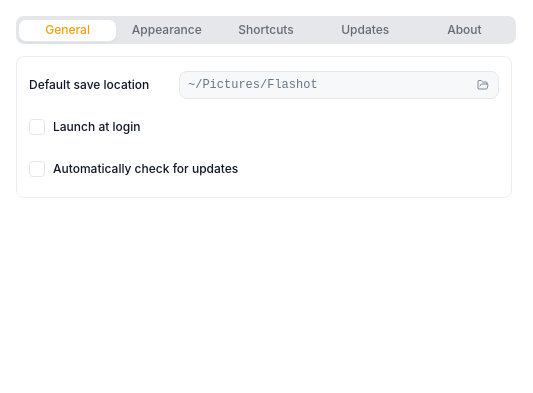
SettingsRoute › resets individual shortcuts from the icon button inside the input
This screenshot has width=533, height=393.
Click the tab "Shortcuts": coordinates (266, 30) x1=216 y1=18 x2=316 y2=42
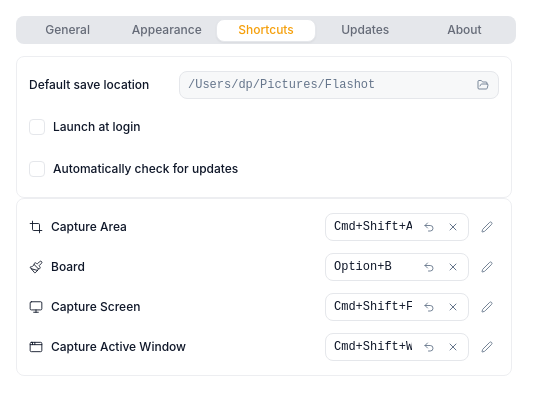
Result: the button named "Change" in the row of "Capture Screen" is shown at x1=475 y1=295 x2=499 y2=319
Click the button named "Reset Capture Screen shortcut": coordinates (429, 307) x1=417 y1=295 x2=441 y2=319
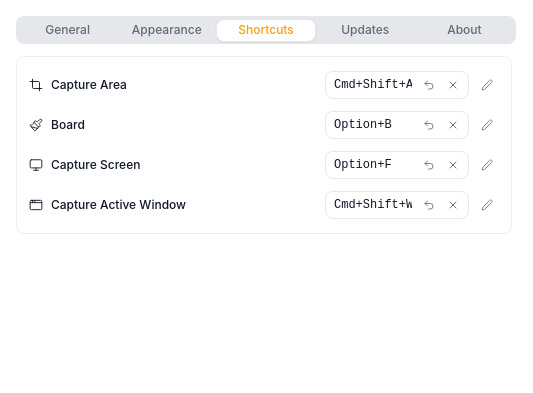
Result: the field showing "Option+F" is shown at x1=325 y1=151 x2=469 y2=179
